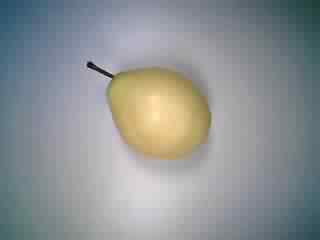pear: (80, 53, 222, 166)
